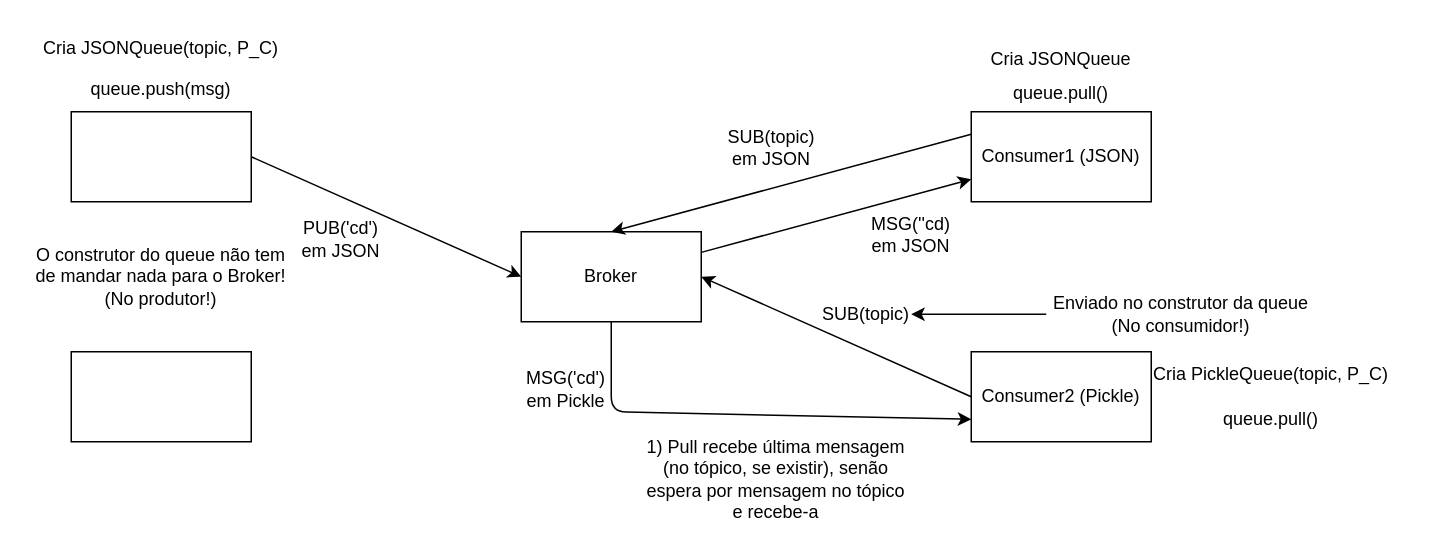
This 1431x557 diagram has some shape labels left out. Each missing label, with the centre of its shape:
"Prod1 (JSON)" goes at point 160,156.
"Prod2 (Pickle)" goes at point 160,396.
